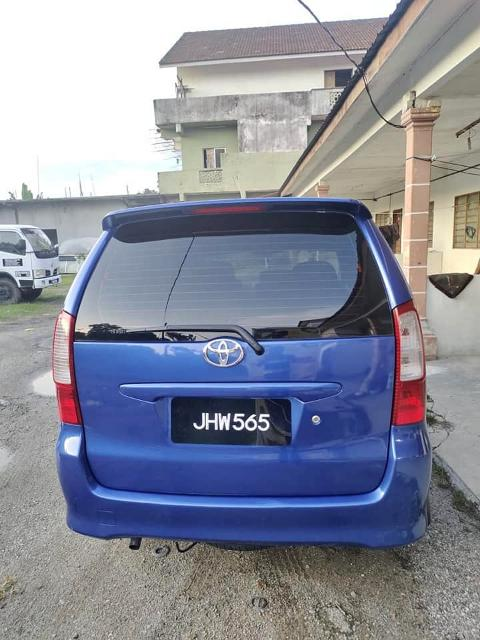License_Plate: (180, 404, 282, 440)
